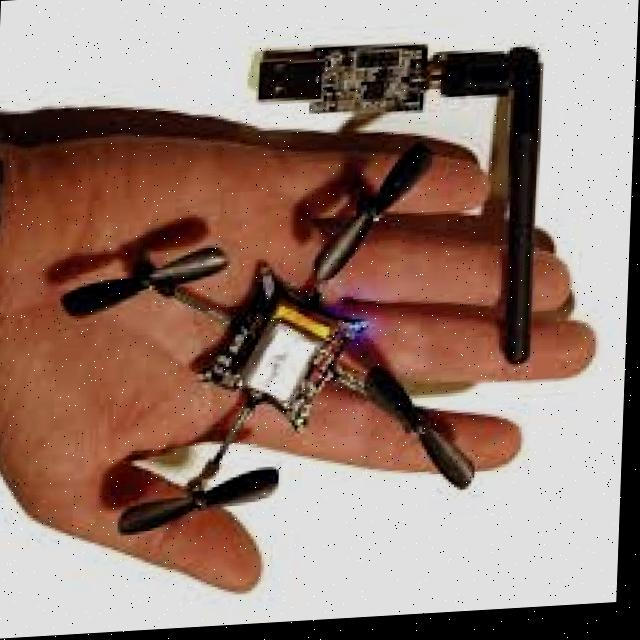drone: (64, 132, 487, 547)
